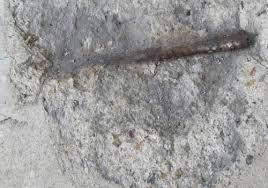Exposed reinforcement: (99, 29, 251, 66)
Spalling: (5, 1, 268, 188)
